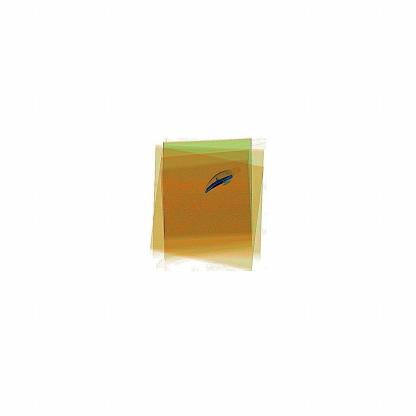pliers: (197, 159, 252, 204)
